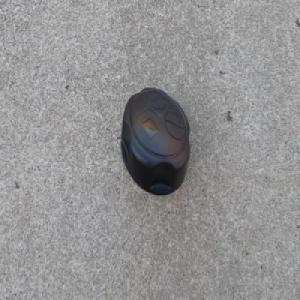FuelCap: (118, 82, 193, 197)
